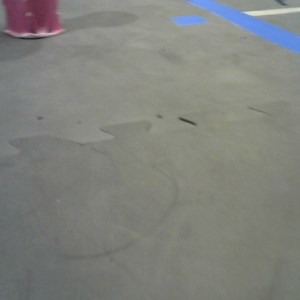middle: (1, 1, 65, 38)
